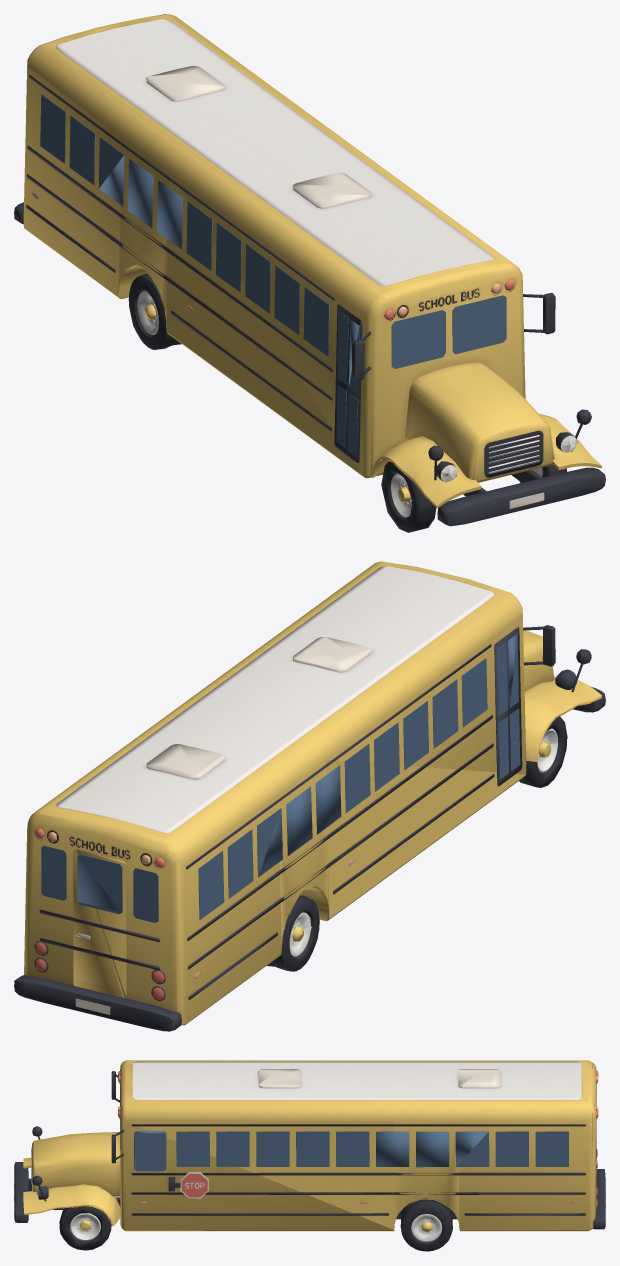
The model's file is autobus_escolar.glb.
The picture shows the model from 3 angles, top to bottom: view 1: azimuth 30°, elevation 25°; view 2: azimuth 150°, elevation 25°; view 3: azimuth 270°, elevation 25°; orthographic projection. The views are drawn at different scales.
Parts seen in each view (by area): view 1: school-bus_body; view 2: school-bus_body; view 3: school-bus_body.
Part boxes in pixels (x1,y1,x2,y2): school-bus_body: (14, 14, 605, 532); school-bus_body: (14, 561, 605, 1031); school-bus_body: (14, 1060, 605, 1251).
Size of the model in its own units: 3.01 by 3.15 by 11.28.
Materials: 24 (1 with a texture image).
